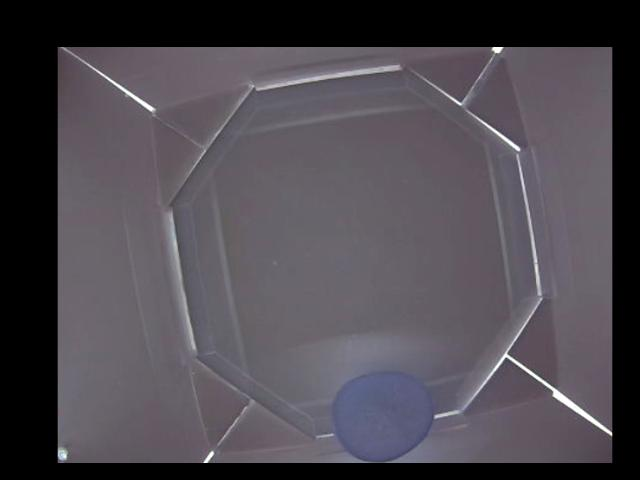Mooli: (329, 373, 435, 463)
